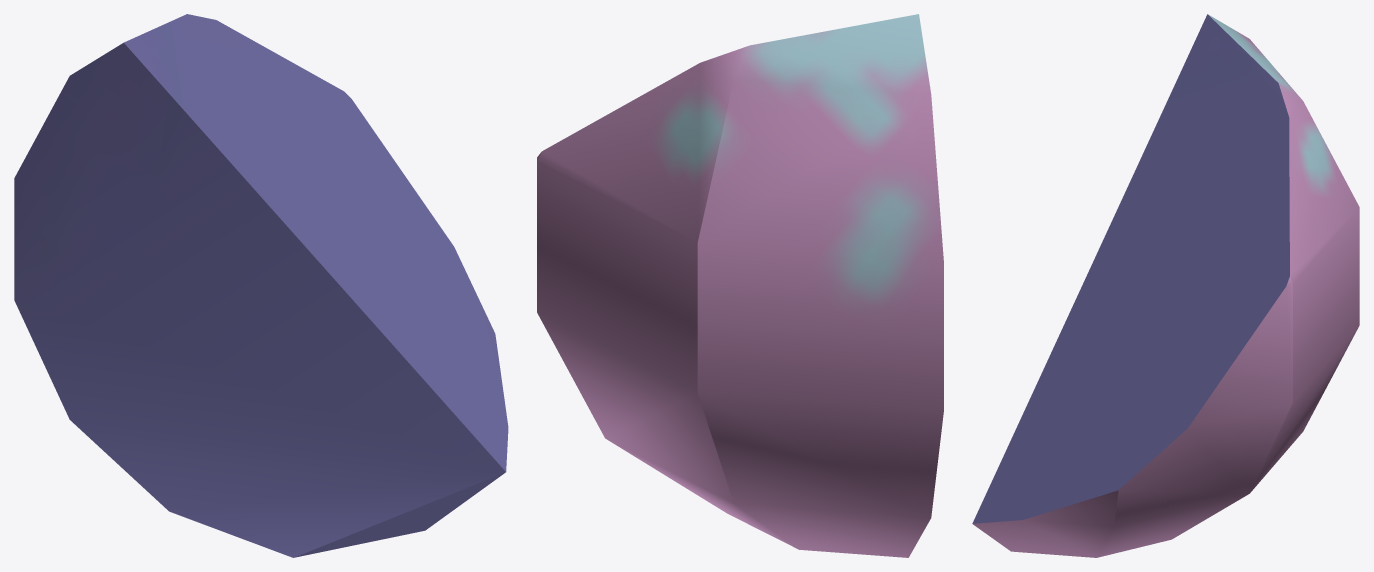
File: augurball 4.fbx
3 renders of one model, left to right at view 1: azimuth 30°, elevation 25°; view 2: azimuth 150°, elevation 25°; view 3: azimuth 270°, elevation 25°, orthographic. The views are drawn at different scales.
Parts seen in each view (by area): view 1: augur ball4; view 2: augur ball4; view 3: augur ball4.
Boxes of the visible parts, box(x1,y1,x2,y2) form: augur ball4: box(14, 14, 508, 557); augur ball4: box(537, 14, 943, 557); augur ball4: box(972, 14, 1359, 557).
Bounding box in the file's own units: 48.06 × 57.59 × 43.
